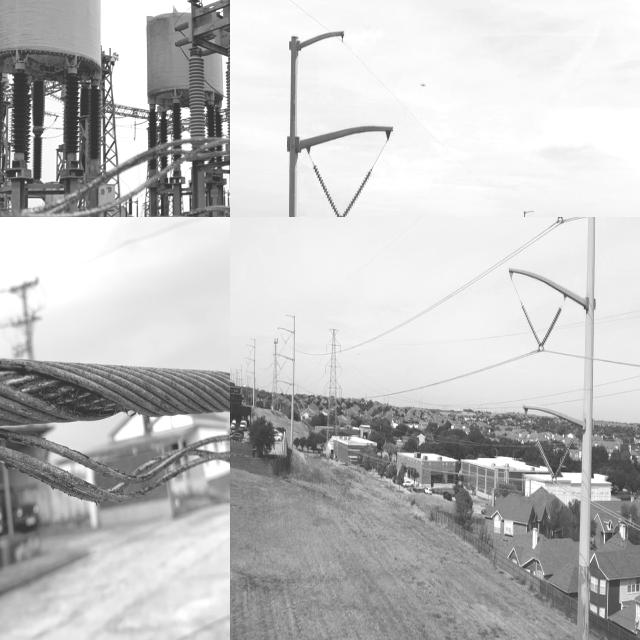杆塔: (320, 322, 350, 438)
正常绝缘子: (336, 159, 381, 217), (532, 297, 569, 365), (309, 153, 344, 217), (516, 291, 547, 359), (549, 217, 569, 235)
电缆破损: (0, 334, 230, 524), (31, 120, 230, 217)
